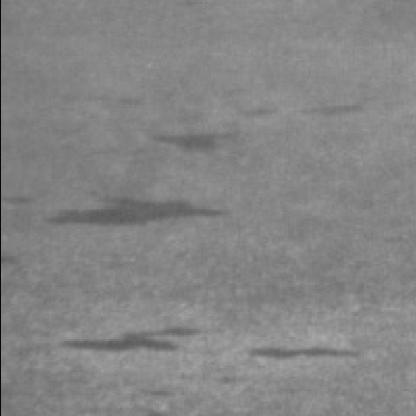inclusion: (35, 175, 233, 237), (141, 86, 300, 156), (40, 310, 220, 362), (241, 318, 366, 370), (294, 85, 372, 123)
